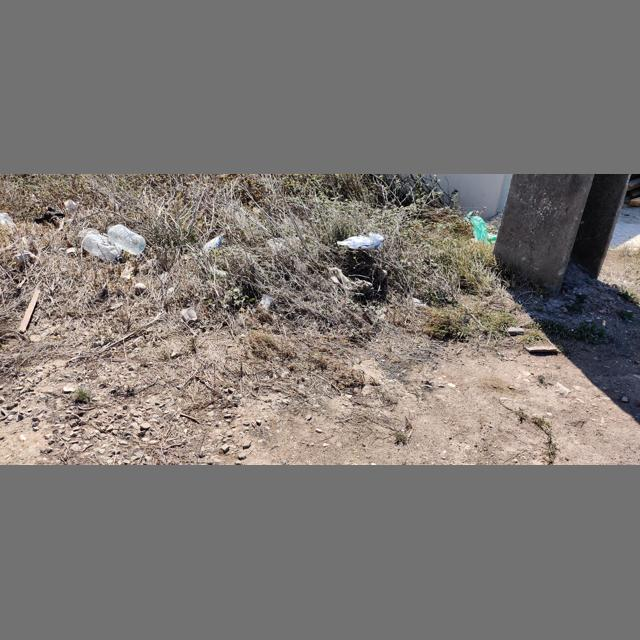litter: (106, 224, 146, 255), (83, 234, 122, 263), (464, 211, 496, 245), (327, 268, 373, 291), (337, 231, 384, 250), (196, 233, 224, 257), (34, 206, 65, 224), (78, 228, 100, 242), (181, 308, 197, 324), (259, 294, 273, 312), (0, 212, 16, 226), (212, 268, 227, 280), (64, 199, 76, 210), (120, 271, 130, 282)
